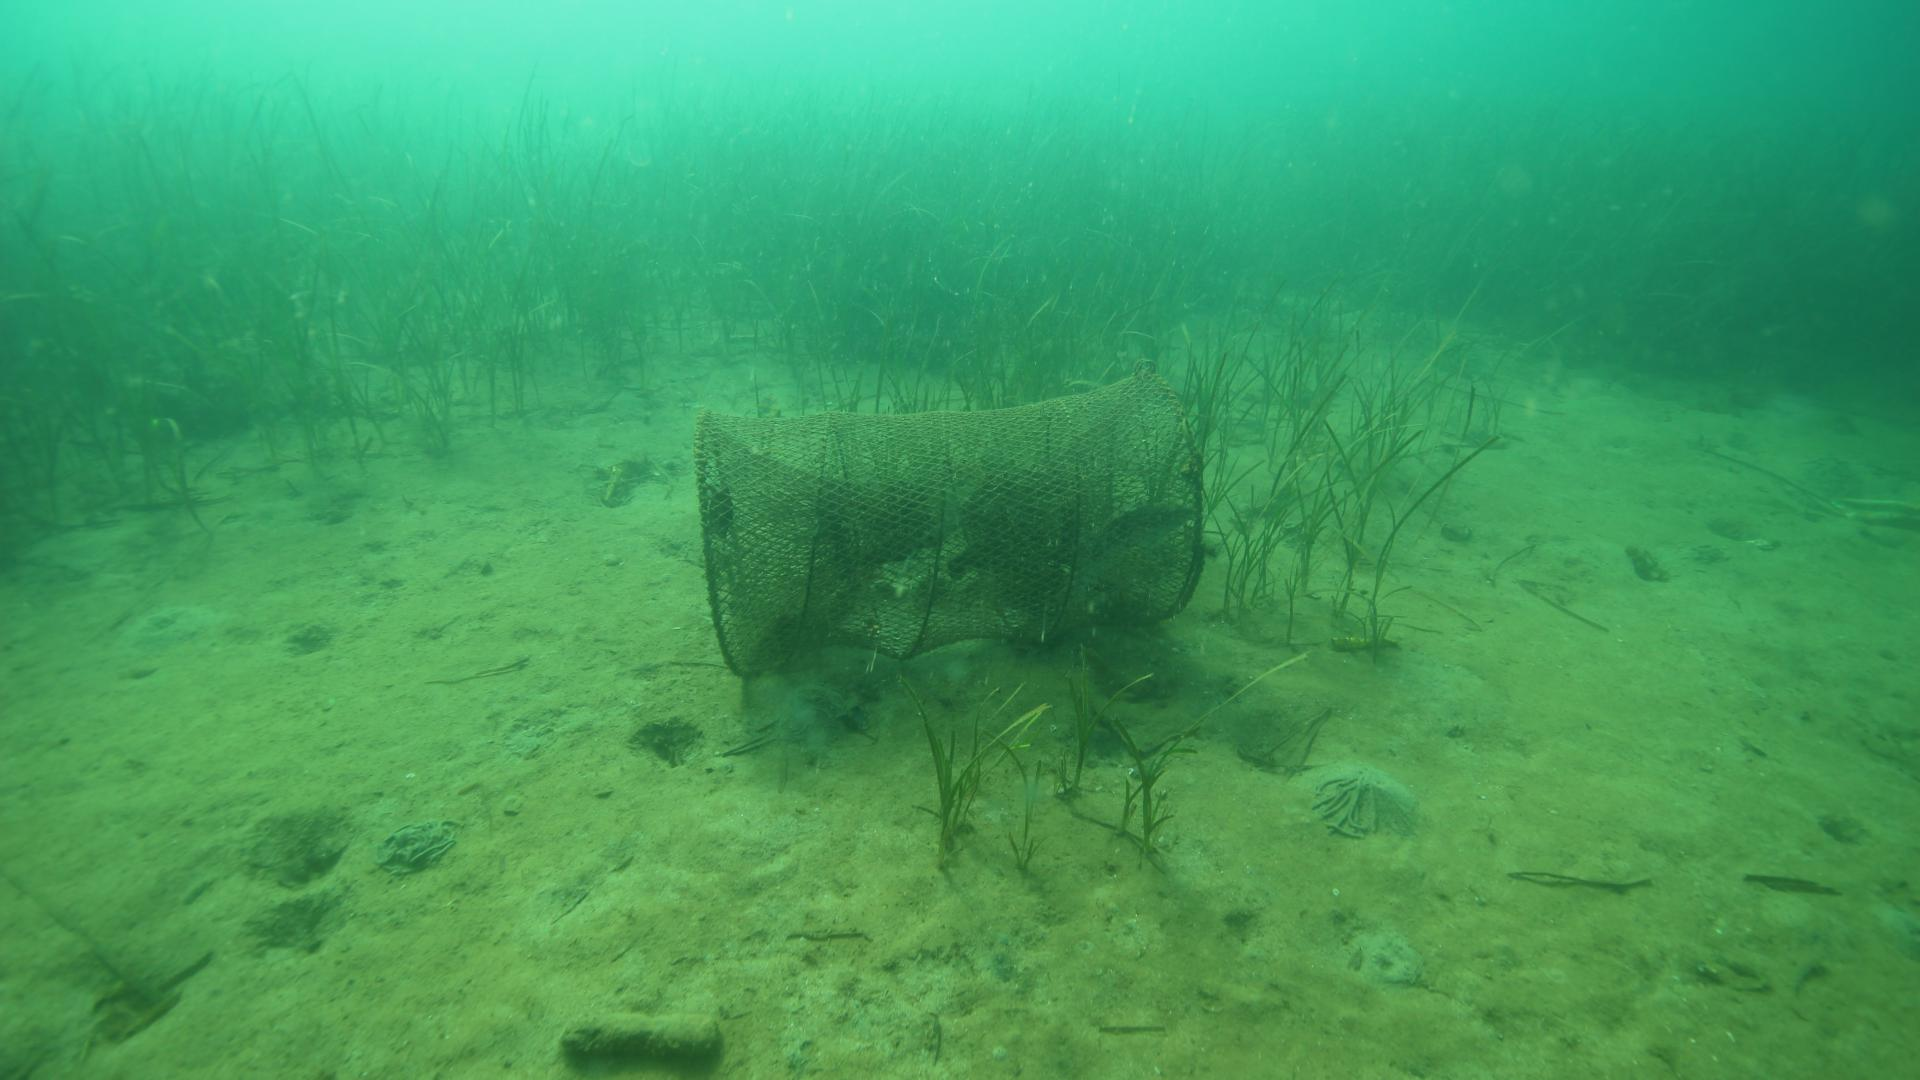spring fish trap: (688, 368, 1212, 678)
